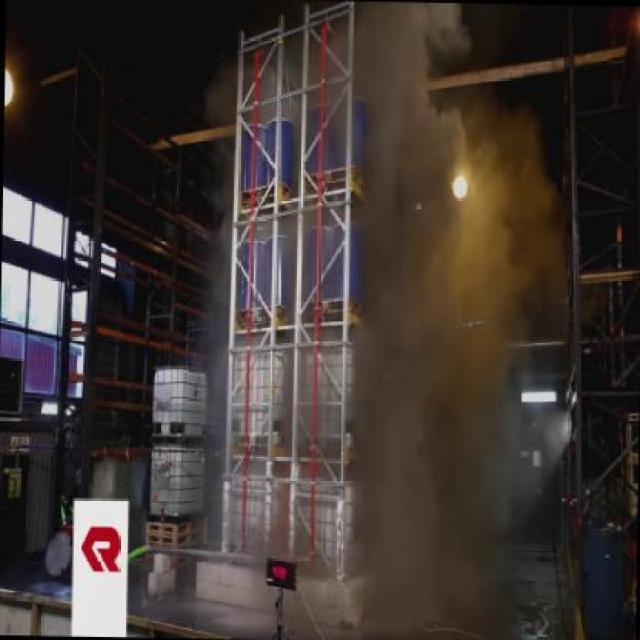fire: (352, 1, 514, 624)
